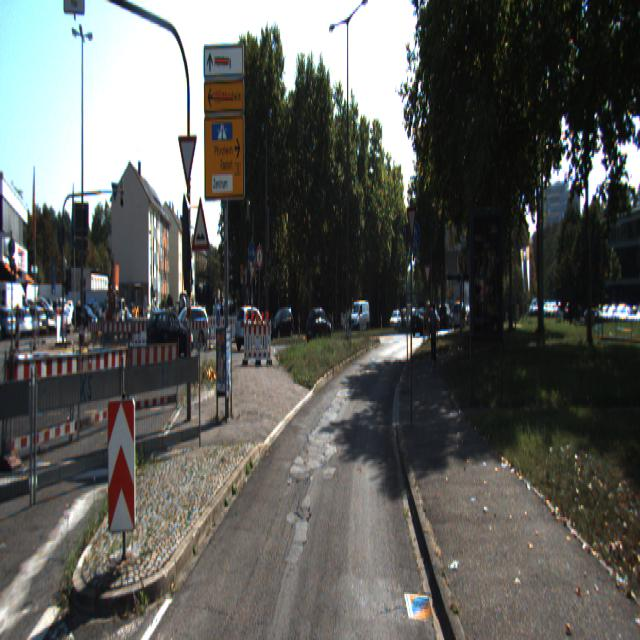Car: (234, 307, 270, 353), (305, 305, 332, 345), (349, 300, 370, 336)
